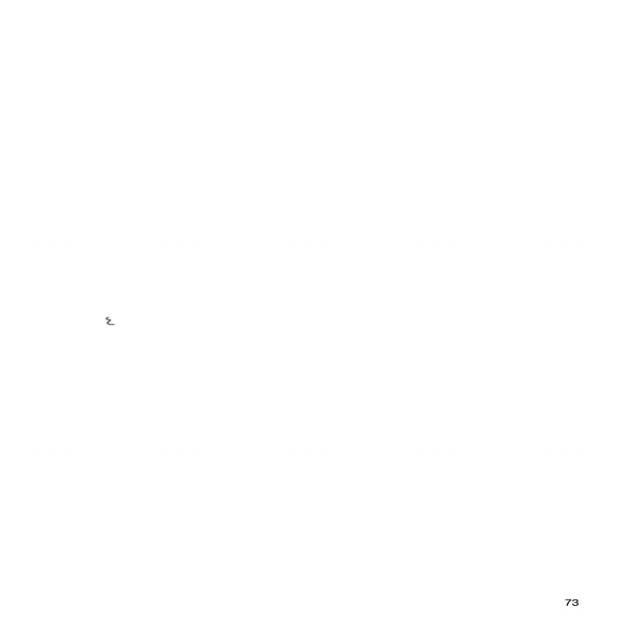4 -four-: (104, 316, 116, 326)
